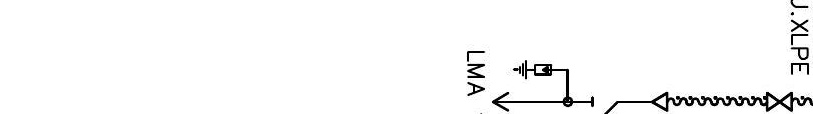terminator_single: (651, 91, 670, 114)
terminator_splicing_kits: (766, 91, 794, 112)
